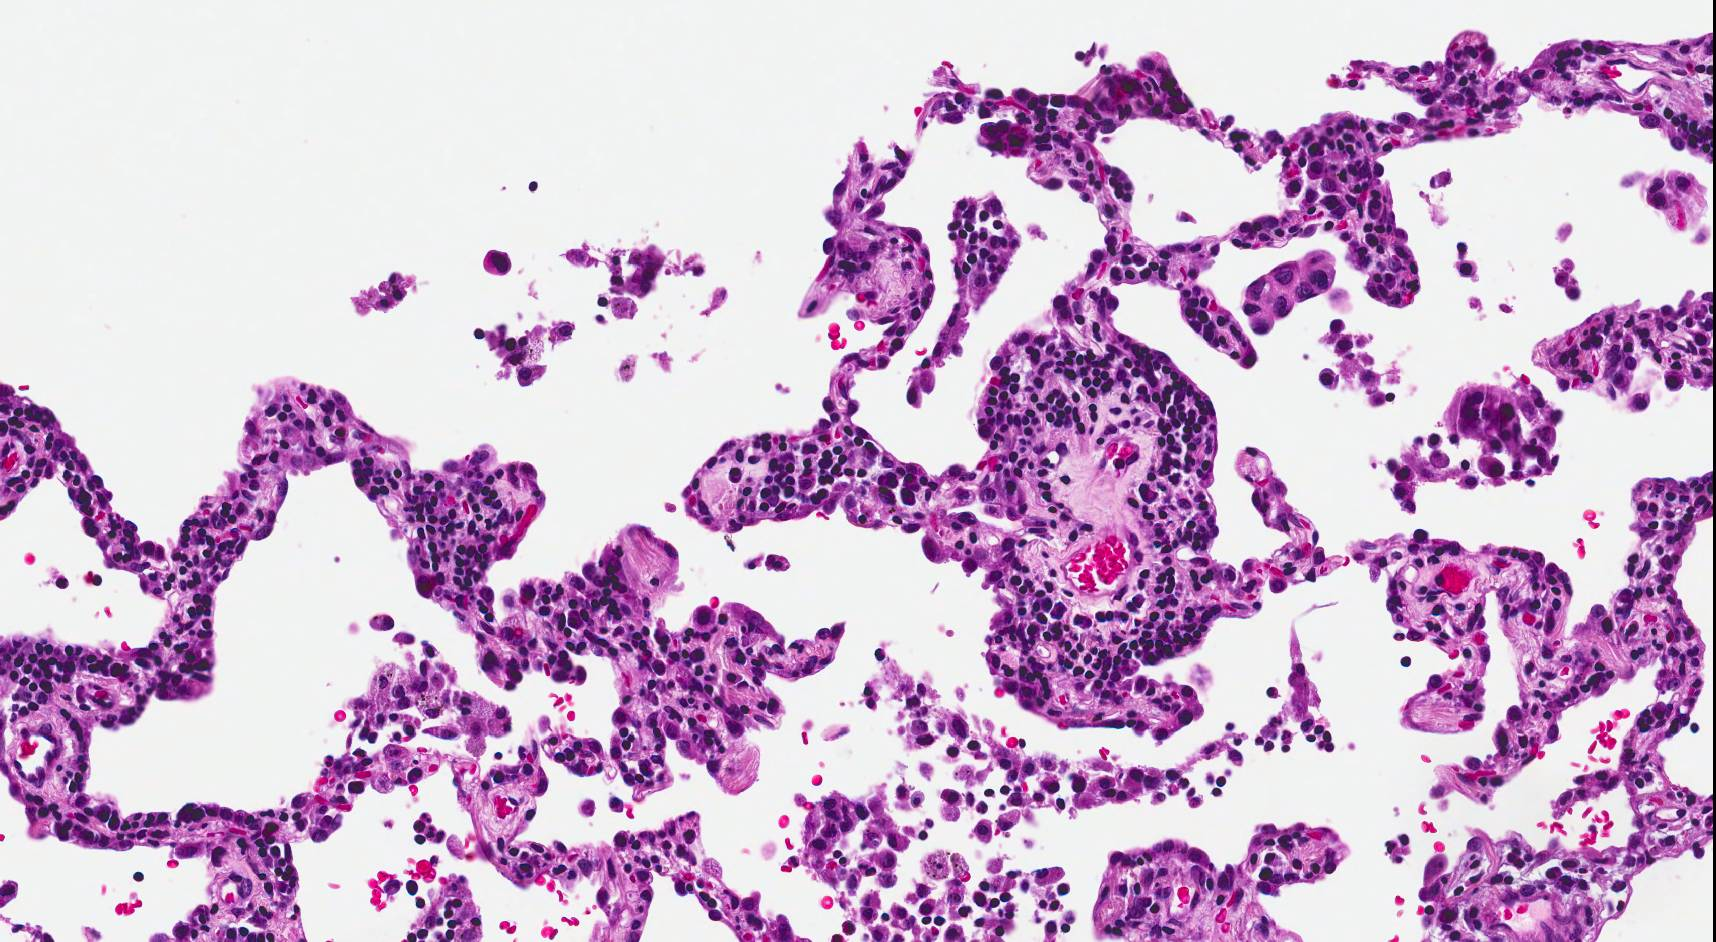stas: (1243, 248, 1339, 335)
